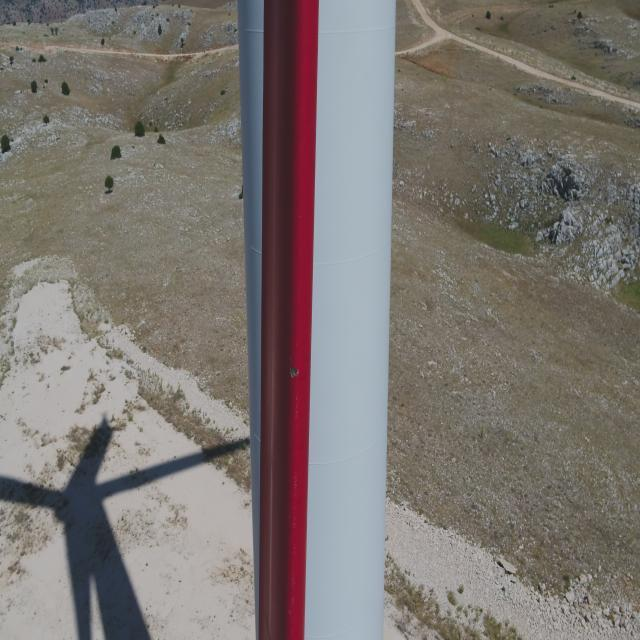EROSION: (285, 365, 302, 387)
